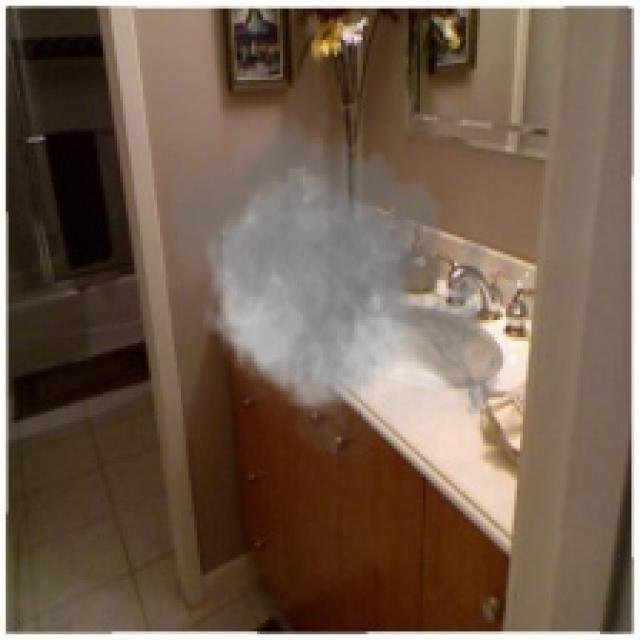smoke: (154, 103, 512, 477)
